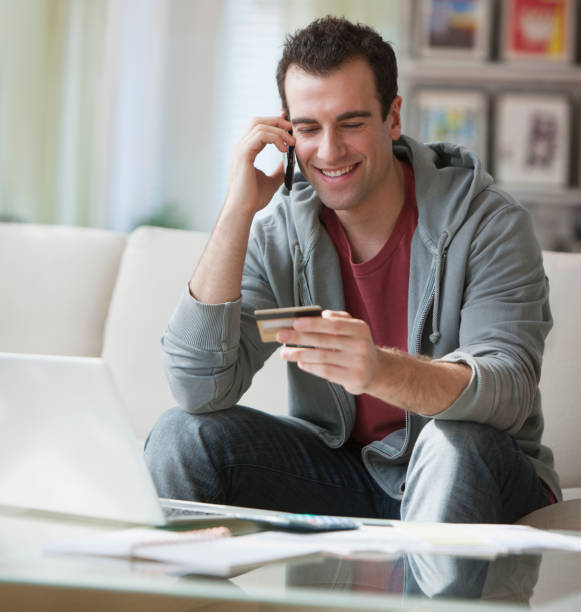phone: (265, 110, 303, 191)
talk: (222, 97, 384, 211)
